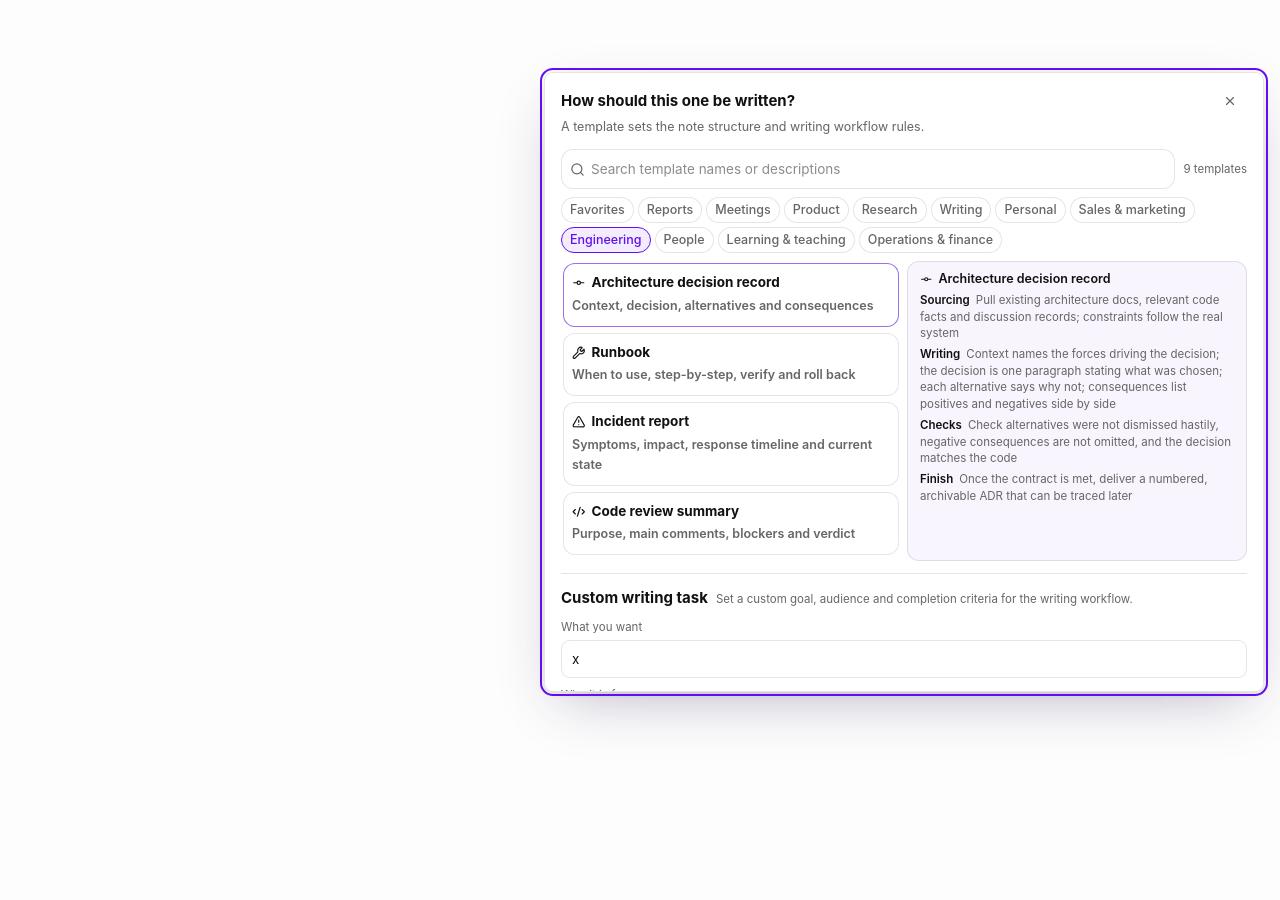
Test: WritingWorkflowPicker › clicking a card selects it in one step; the current workflow card says "In use" and sets the default category
Expected: the tab "Engineering" is shown, [561, 227, 650, 253]
Click the button with class "workflow-card" that starts with "Architecture decision record" at [731, 295], box [563, 263, 899, 327]
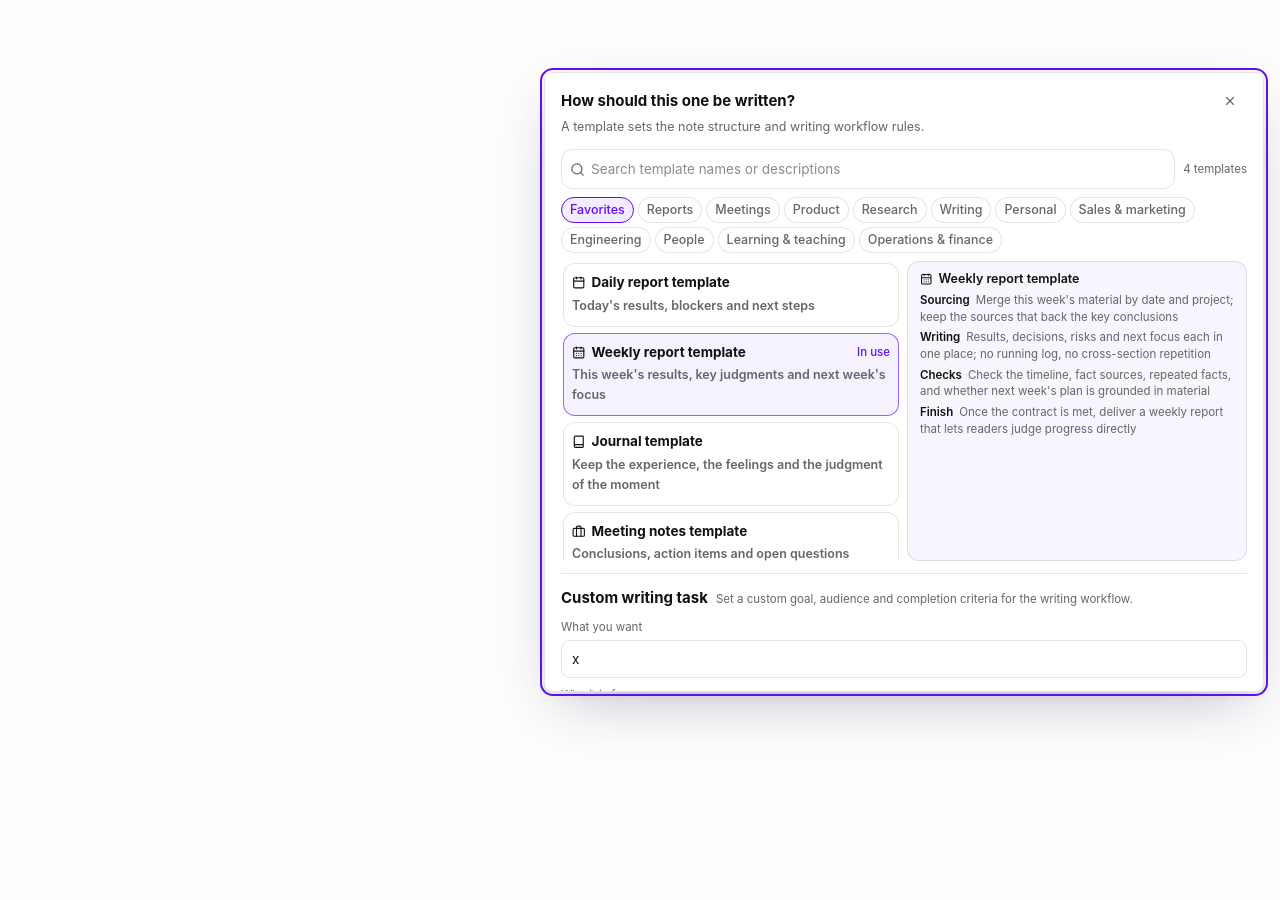
Expected: the text "In use" is shown, [857, 343, 890, 362]
